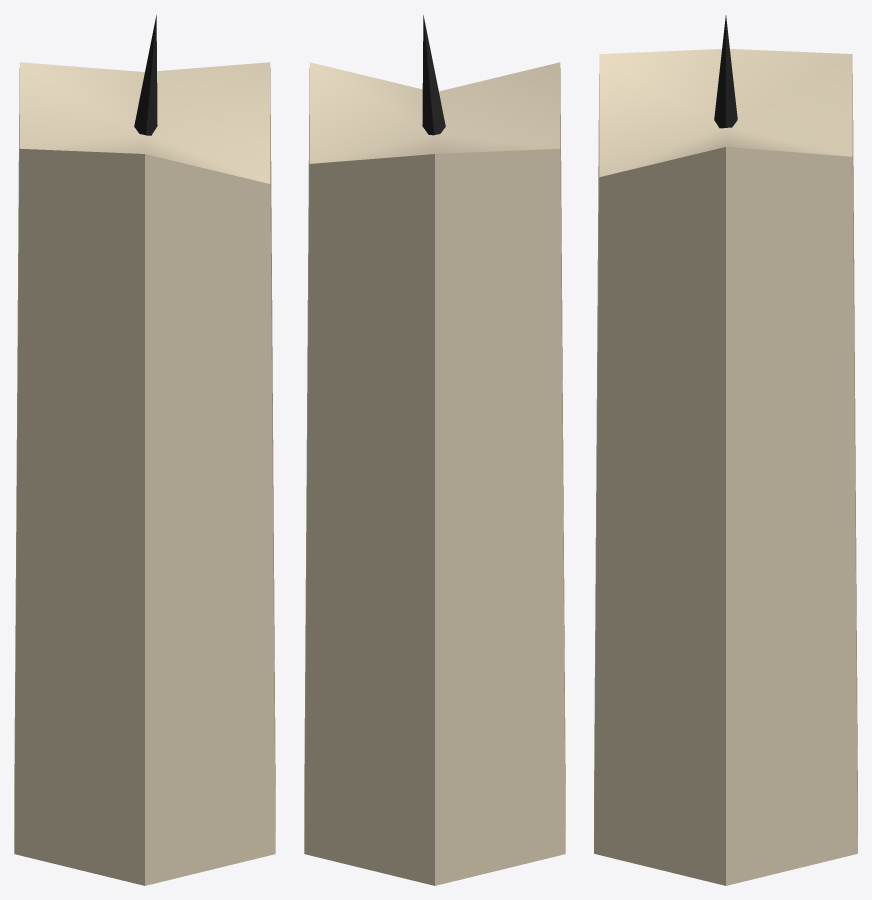
File: candle_row_candle.glb
3 renders of one model, left to right at view 1: azimuth 30°, elevation 25°; view 2: azimuth 150°, elevation 25°; view 3: azimuth 270°, elevation 25°, orthographic.
Visible parts, largest first — view 1: candle_row_candle; view 2: candle_row_candle; view 3: candle_row_candle.
Boxes of the visible parts, <box> form: candle_row_candle: <box>14,15,275,885</box>; candle_row_candle: <box>304,15,565,885</box>; candle_row_candle: <box>594,15,857,885</box>.
Bounding box in the file's own units: 0.027 × 0.0795 × 0.0234.
